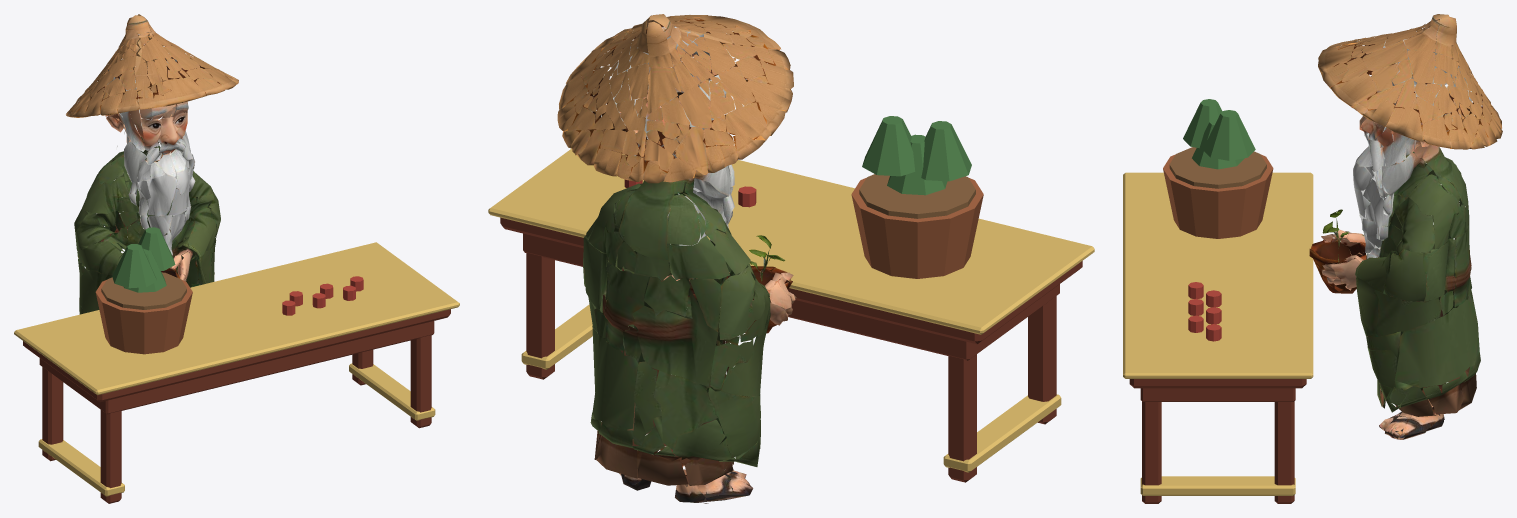
File: growing.glb
3 views of the same model, side by side, from view 1: azimuth 30°, elevation 25°; view 2: azimuth 150°, elevation 25°; view 3: azimuth 270°, elevation 25° (orthographic). The views are drawn at different scales.
Parts seen in each view (by area): view 1: table_growing, god_growing; view 2: god_growing, table_growing; view 3: table_growing, god_growing.
Part boxes in pixels (left/top/right/bottom): table_growing: left=14, top=227, right=459, bottom=503; god_growing: left=66, top=14, right=238, bottom=314; god_growing: left=557, top=14, right=796, bottom=503; table_growing: left=488, top=116, right=1094, bottom=482; table_growing: left=1123, top=99, right=1313, bottom=503; god_growing: left=1309, top=14, right=1502, bottom=439.
Bounding box in the file's own units: 2.16 × 2 × 1.72.
7 materials, 1 textured.
